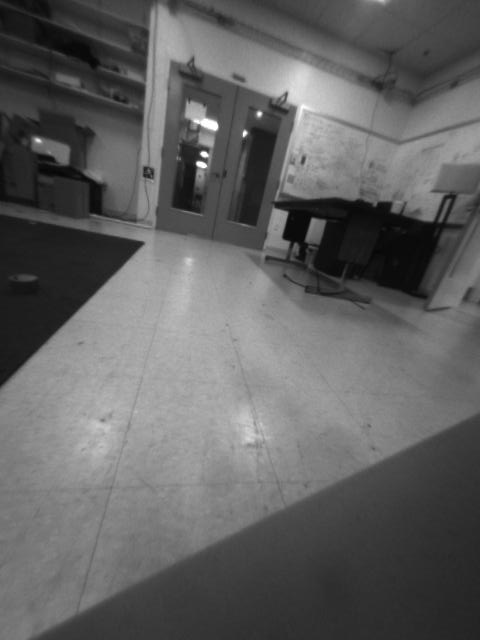dogtoy: (1, 265, 52, 295)
